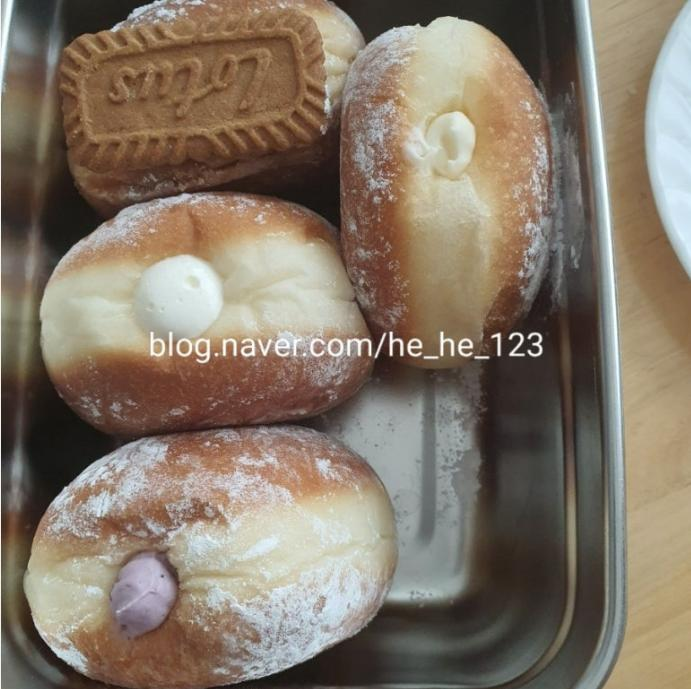Lunch Box: (0, 0, 624, 688)
